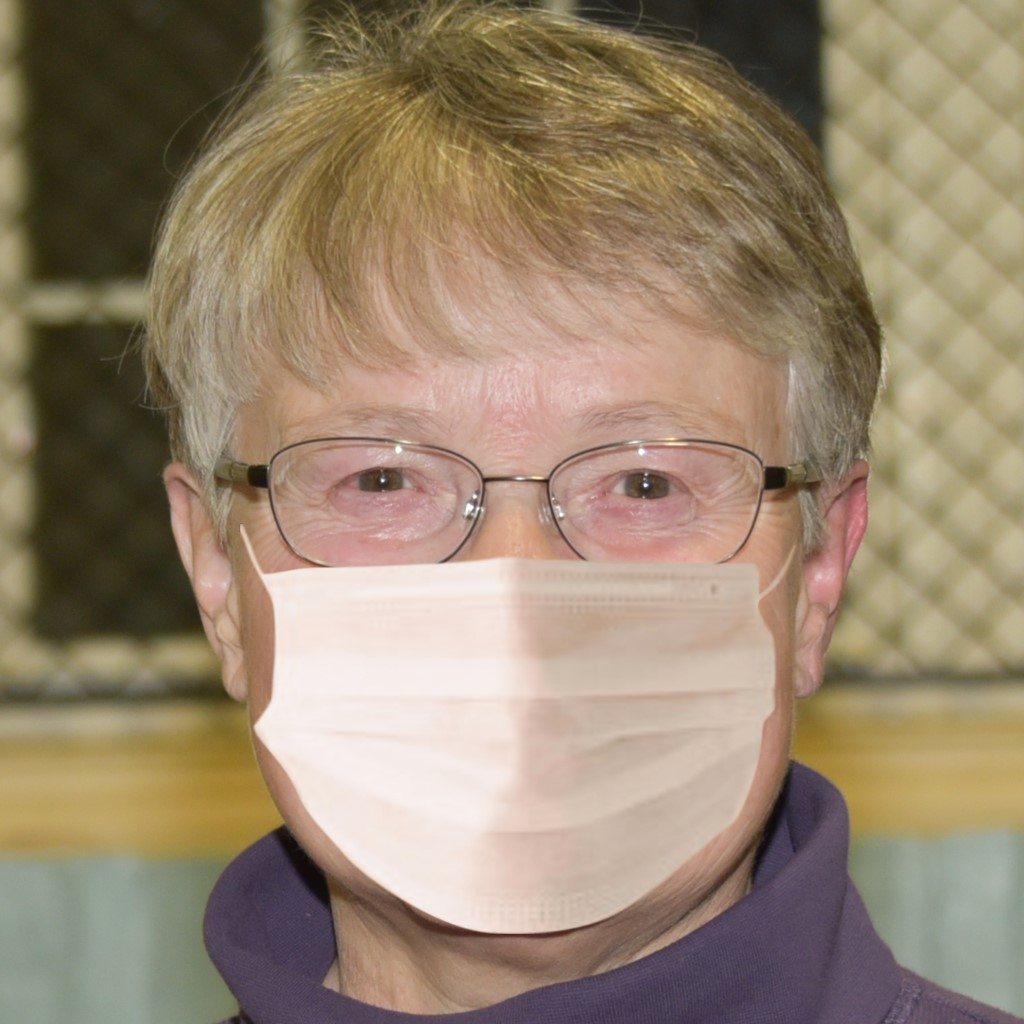con_mascara: (220, 117, 801, 929)
